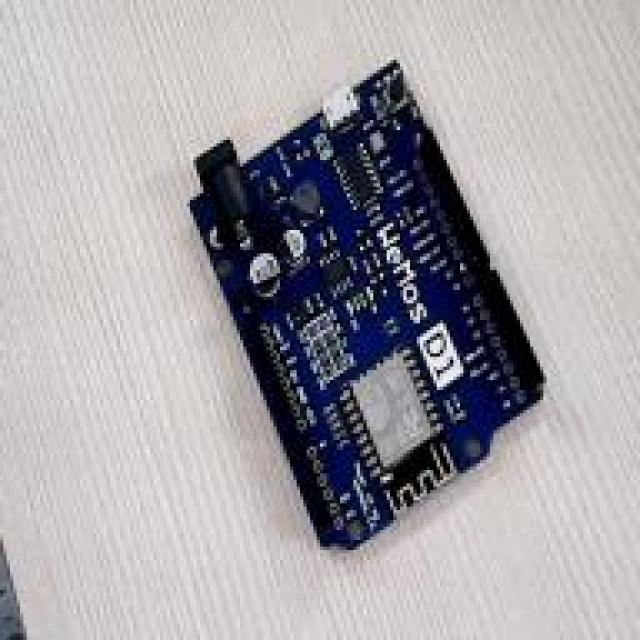Wemos: (191, 61, 541, 548)
